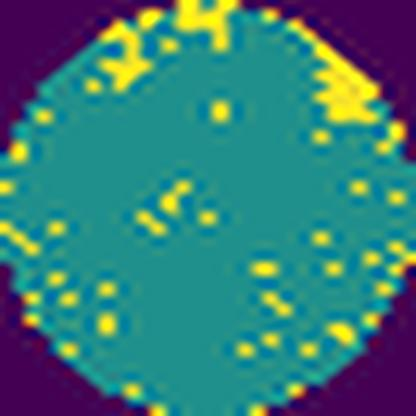Edge-Loc: (291, 21, 384, 128), (96, 18, 154, 93), (178, 0, 242, 53)
